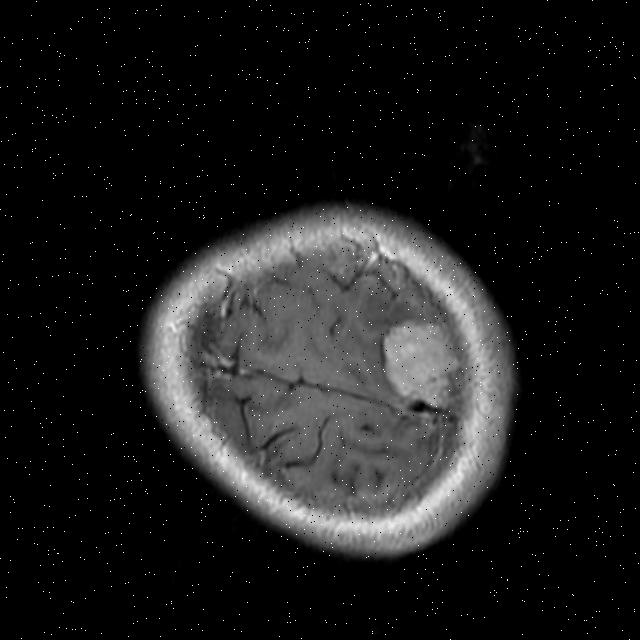Meningioma: (371, 306, 469, 413)
